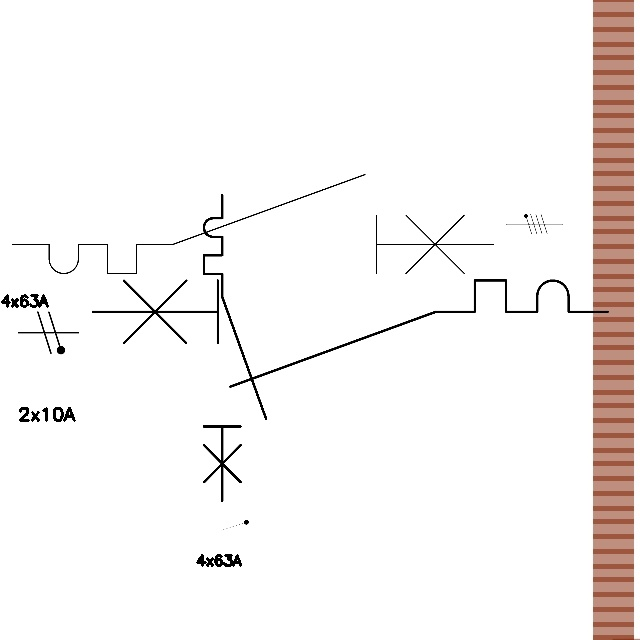interruptor_termomagnetico: (79, 267, 621, 399), (0, 162, 506, 286), (196, 187, 274, 508)
